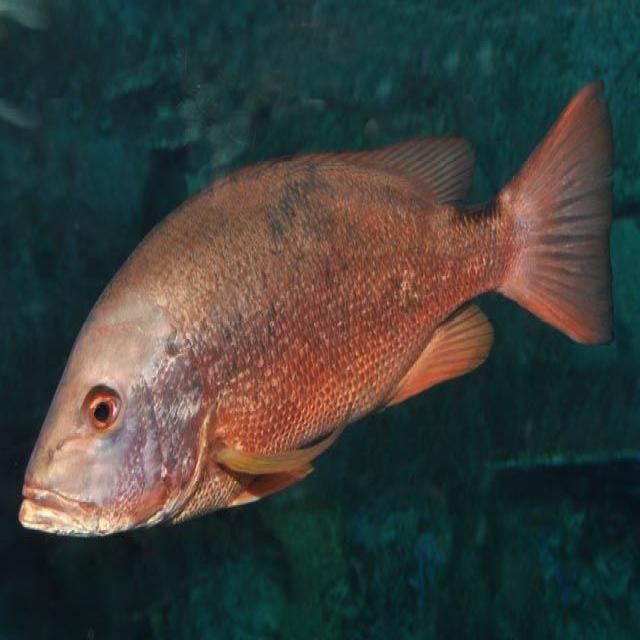ikan: (17, 76, 616, 539)
